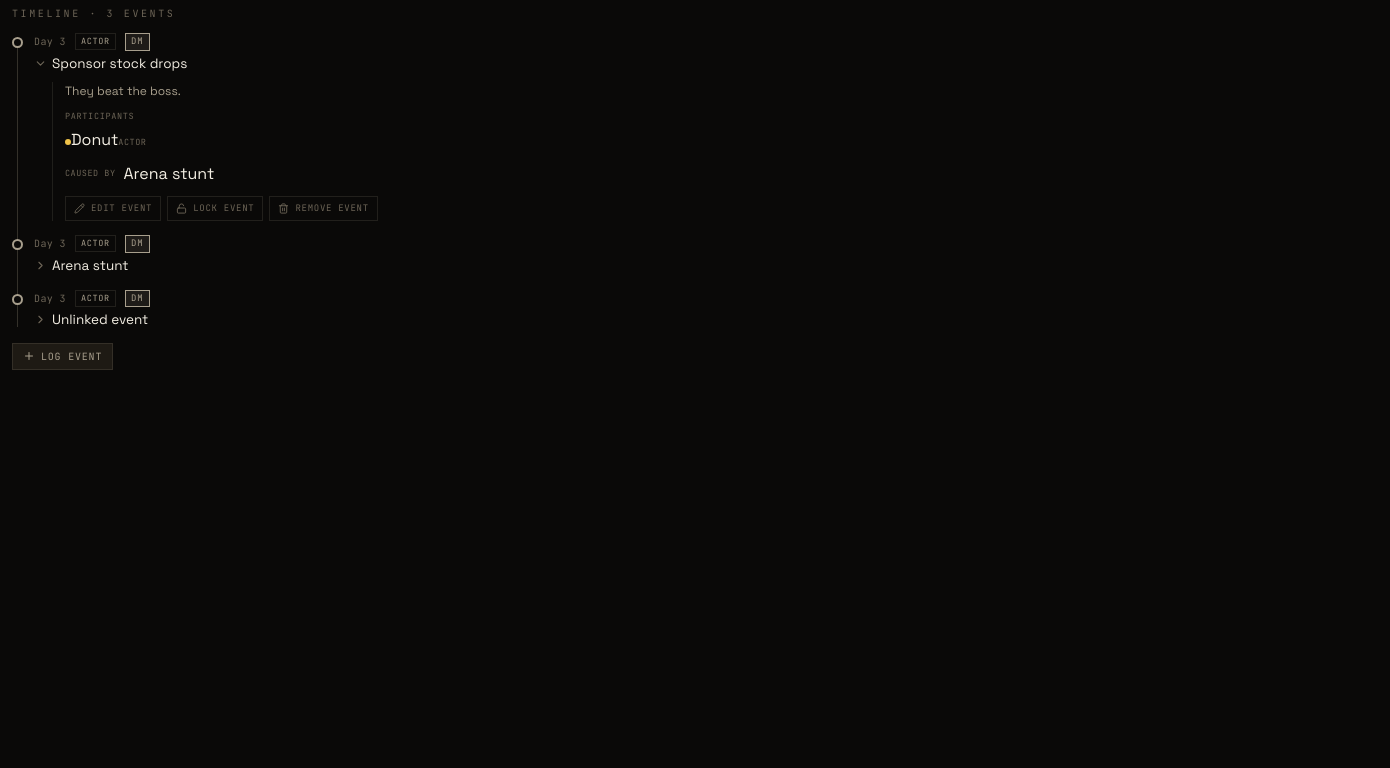
Scenario: TimelinePanel › gates causality edit controls behind edit mode and locks
Check: the text "Caused by" is shown, box [65,167,116,180]
Check: the link "Arena stunt" is shown, box [124,162,214,186]
# Now click Edit event: remove button and add cause picker should appear
Step 1. Click the button "Edit event" → (113, 208), box [65,196,161,221]
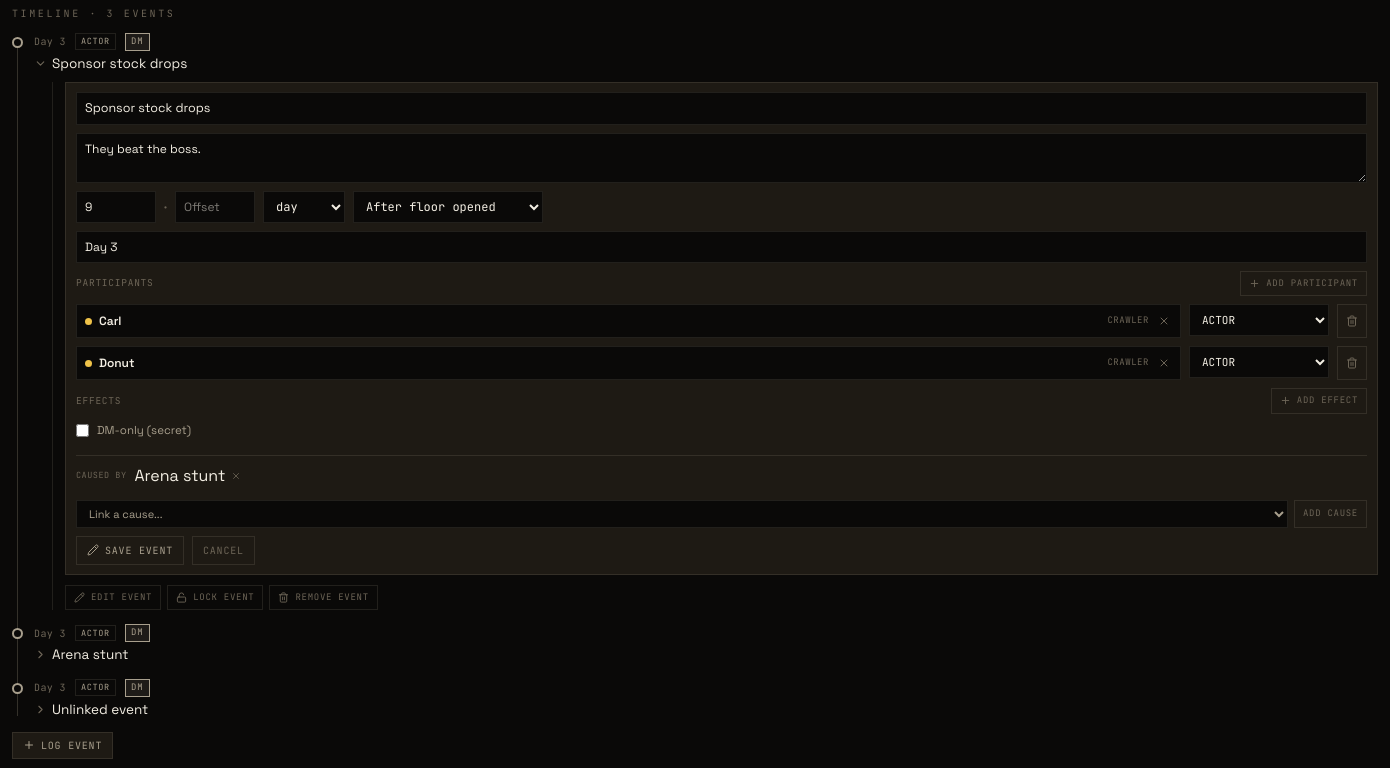
Check: the button named "Remove cause link" is shown, box [229,469,243,483]
Check: the dropdown named "Cause event for Sponsor stock drops" is shown, box [76,500,1288,528]
Step 2. Click the button "Arena stunt" → (90, 654), box [34,645,1378,665]
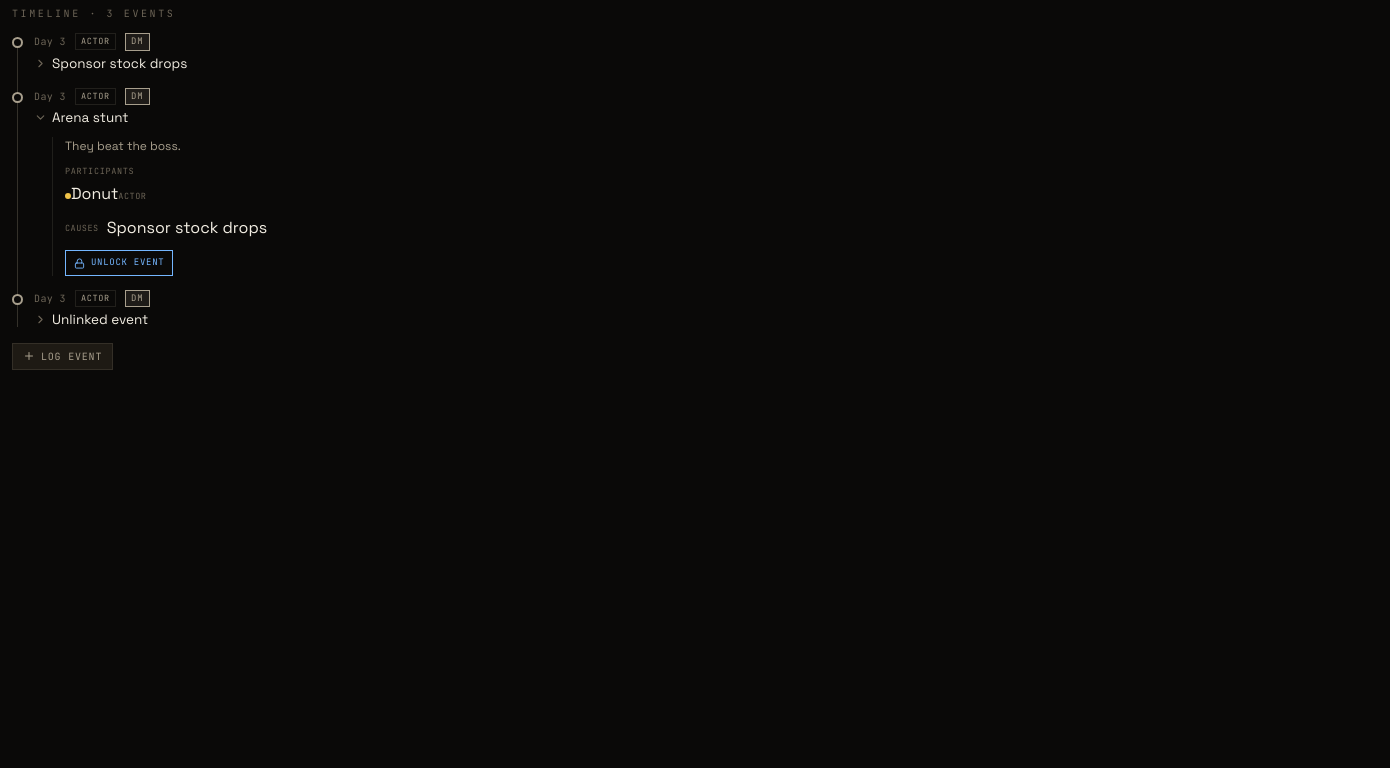
Check: the button "Edit event" is gone
